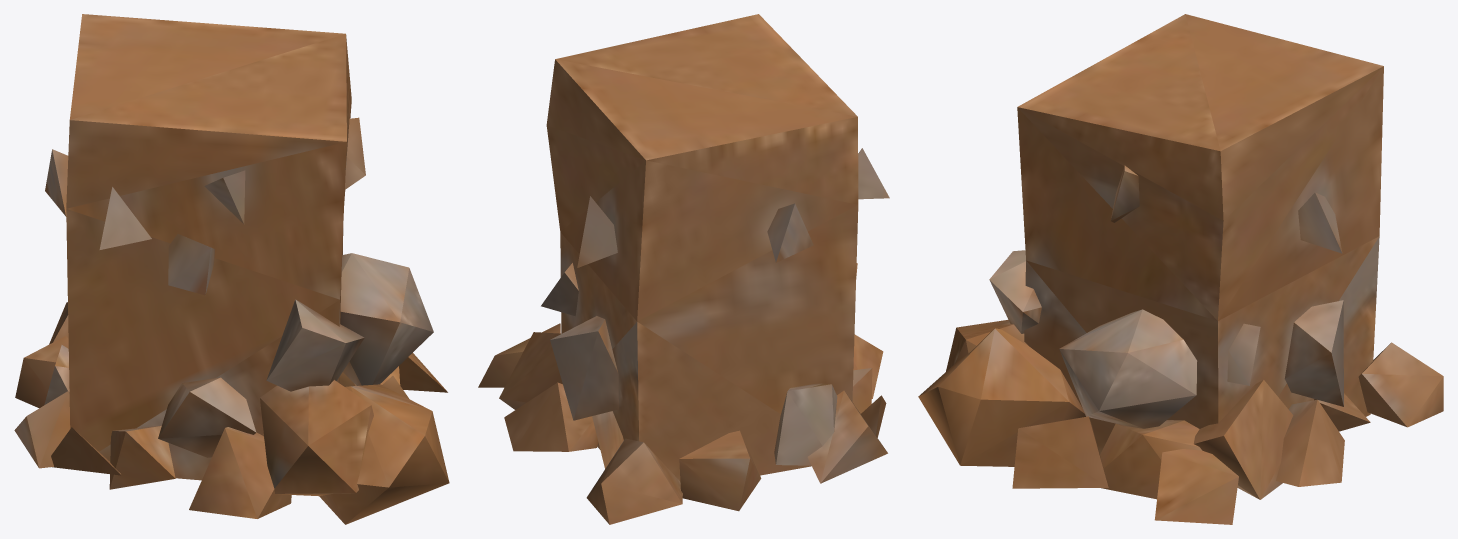
The model's file is bloque_tierra_0_250.glb.
3 renders of one model, left to right at view 1: azimuth 30°, elevation 25°; view 2: azimuth 150°, elevation 25°; view 3: azimuth 270°, elevation 25°, orthographic. The views are drawn at different scales.
Parts seen in each view (by area): view 1: bloque_tierra_0_malla; view 2: bloque_tierra_0_malla; view 3: bloque_tierra_0_malla.
Part boxes in pixels (<box>): bloque_tierra_0_malla: <box>14,14,449,524</box>; bloque_tierra_0_malla: <box>478,14,889,524</box>; bloque_tierra_0_malla: <box>918,14,1443,524</box>.
Bounding box in the file's own units: 0.2398 × 0.2115 × 0.2843.
Materials: 1 (1 with a texture image).
